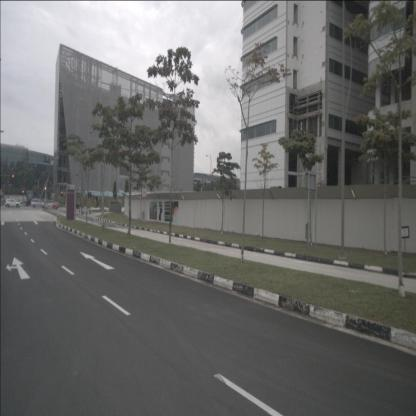vehicle-car: (42, 200, 60, 210), (5, 198, 20, 208), (30, 199, 44, 208), (68, 199, 80, 209)
vehicle-truck: (26, 191, 34, 206)
